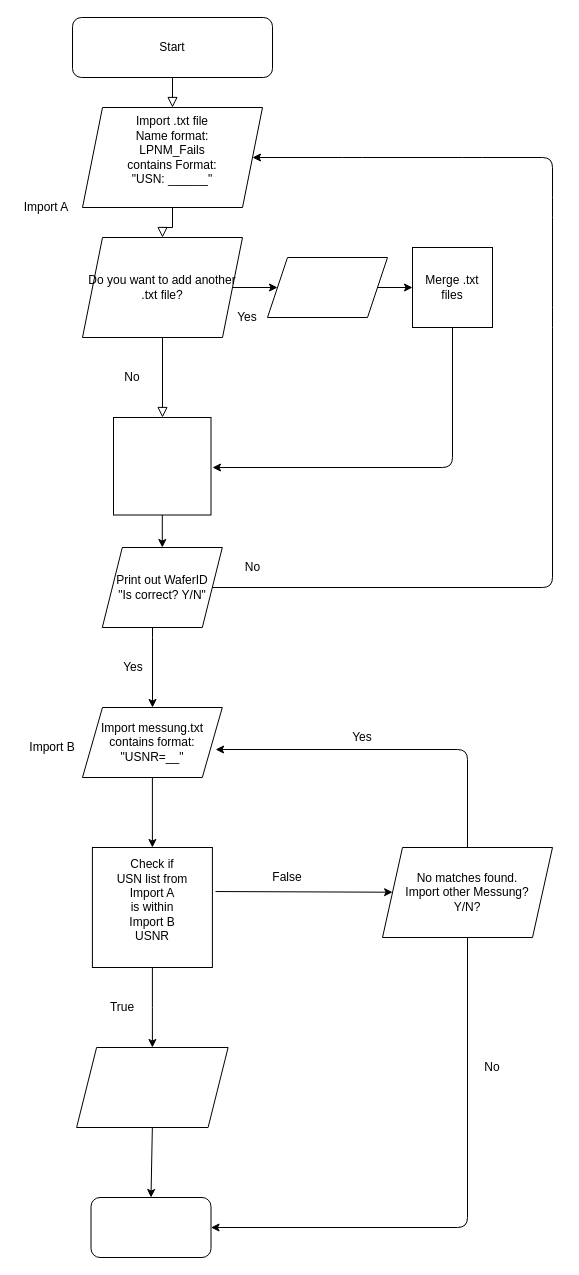
This 579x1275 diagram has some shape labels left out. The shapes that lost their labels are listed below. From the top down, each one's centre as x and y in pixels, then its label:
point (327, 287): Input .txt file
point (161, 465): Read out String "WaferID_" of file(s)
point (152, 1087): Matching USNR is/ are: Output USNR number + row in file
point (150, 1227): End
